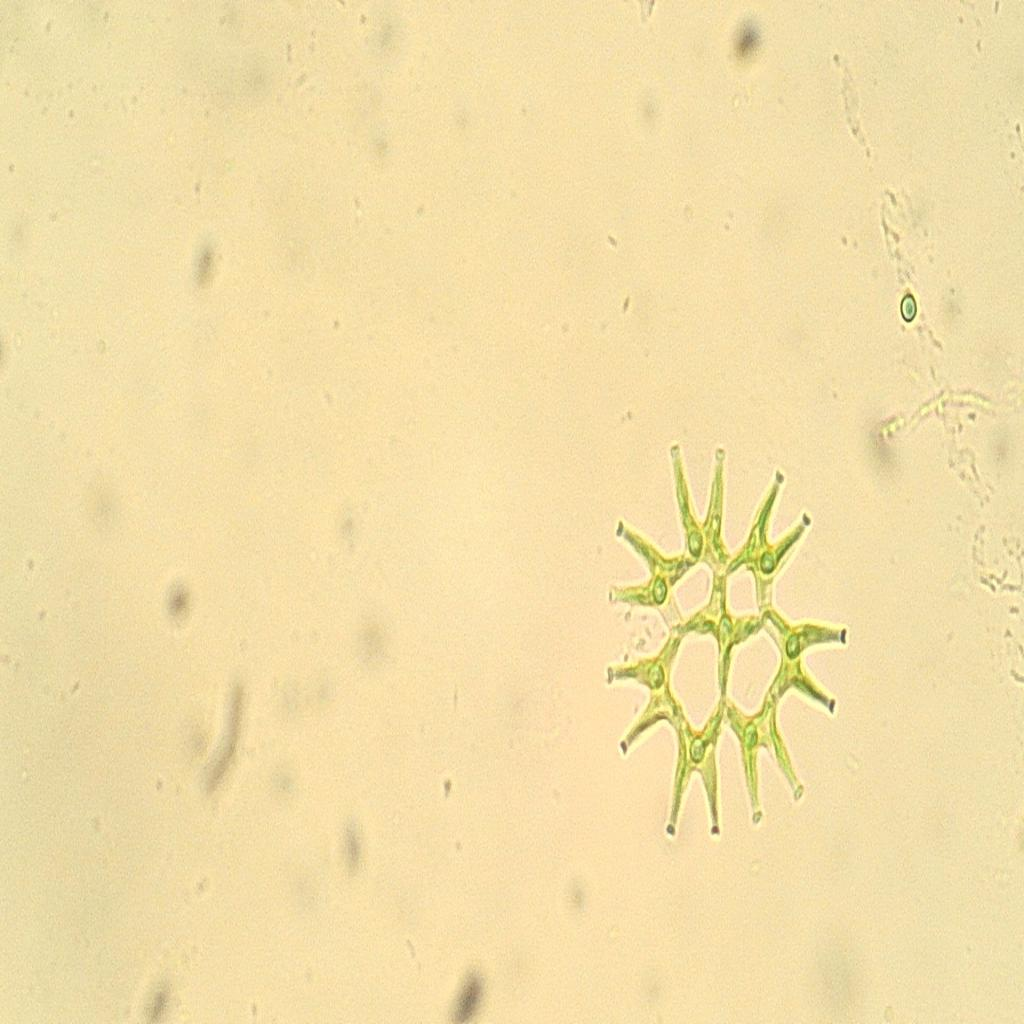Pediastrum_CTH: (576, 412, 862, 876)
